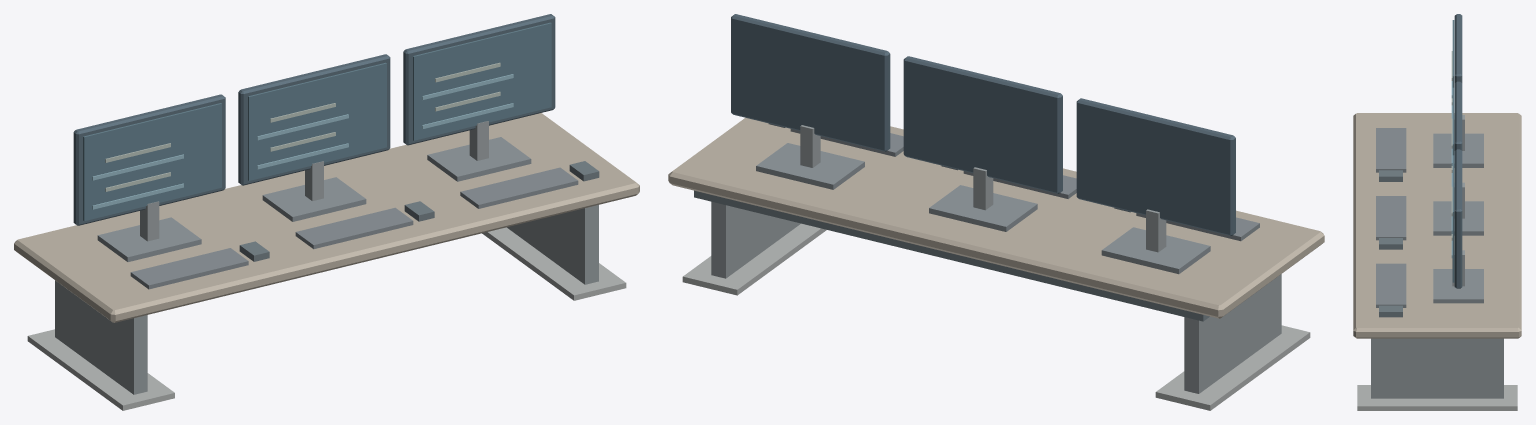
Rendered from devbench.glb.
3 views of the same model, side by side, from view 1: azimuth 30°, elevation 25°; view 2: azimuth 150°, elevation 25°; view 3: azimuth 270°, elevation 25° (orthographic). The views are drawn at different scales.
Visible parts, largest first — view 1: devbench; view 2: devbench; view 3: devbench.
Boxes of the visible parts, x1,y1,x2,y2 form: devbench: [14, 14, 639, 410]; devbench: [668, 14, 1324, 410]; devbench: [1353, 14, 1521, 410].
Bounding box in the file's own units: 12.2 × 5.13 × 4.
